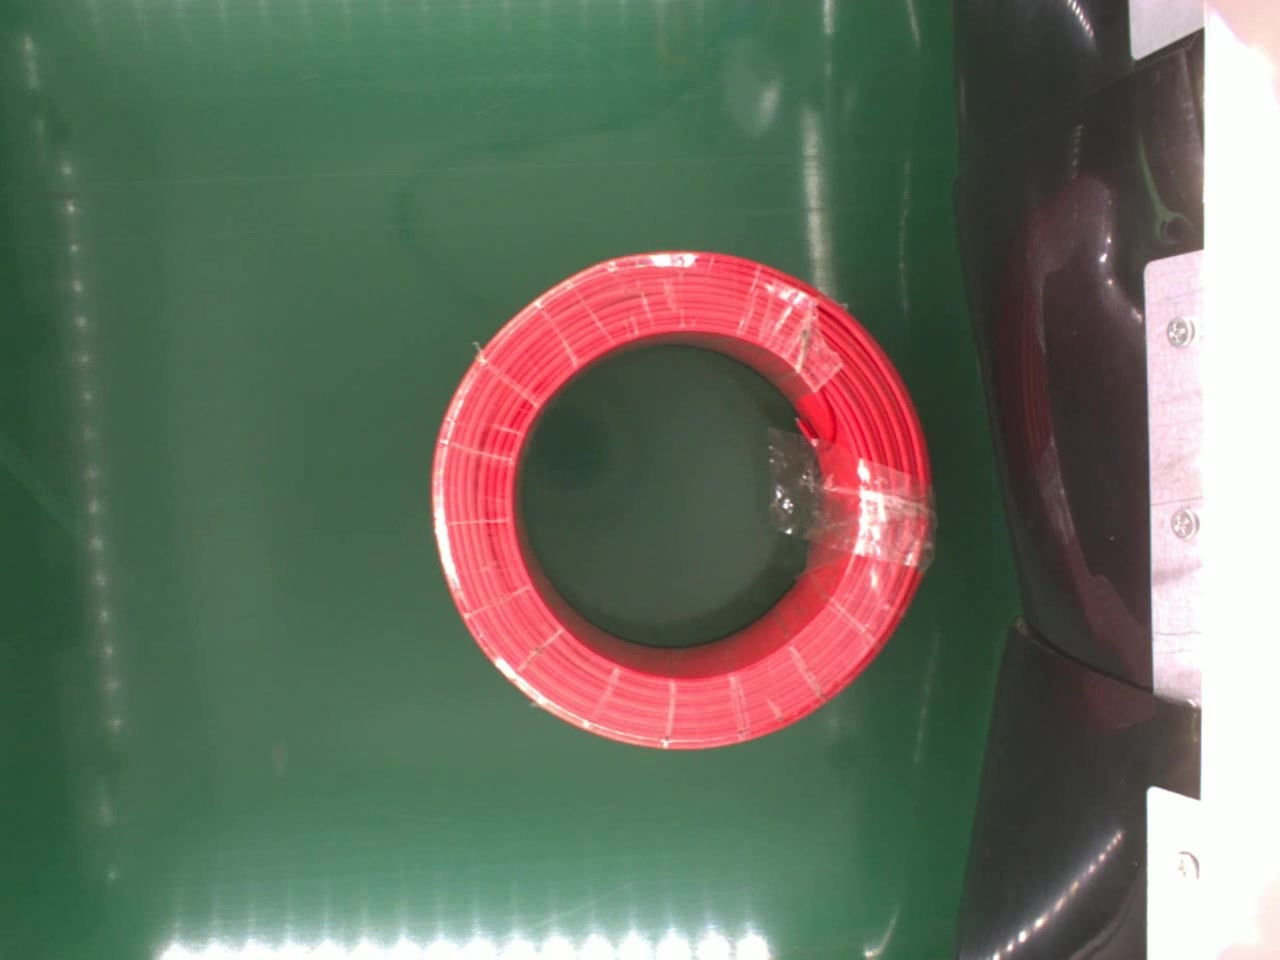red: (426, 247, 941, 757)
